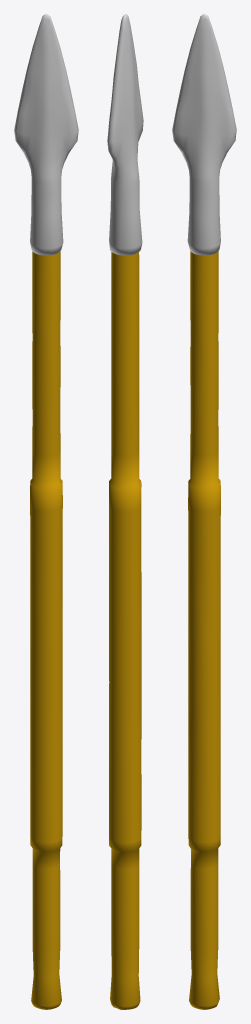
The model's file is MetalSpear.fbx.
3 views of the same model, side by side, from view 1: azimuth 90°, elevation 25°; view 2: azimuth 150°, elevation 25°; view 3: azimuth 270°, elevation 25° (orthographic).
Parts seen in each view (by area): view 1: MetalSpear; view 2: MetalSpear; view 3: MetalSpear.
Part boxes in pixels (bbox=[...]): MetalSpear: bbox=[14, 14, 78, 1009]; MetalSpear: bbox=[107, 14, 143, 1009]; MetalSpear: bbox=[172, 14, 236, 1009].
Bounding box in the file's own units: 0.0474 × 1.52 × 0.0899.
